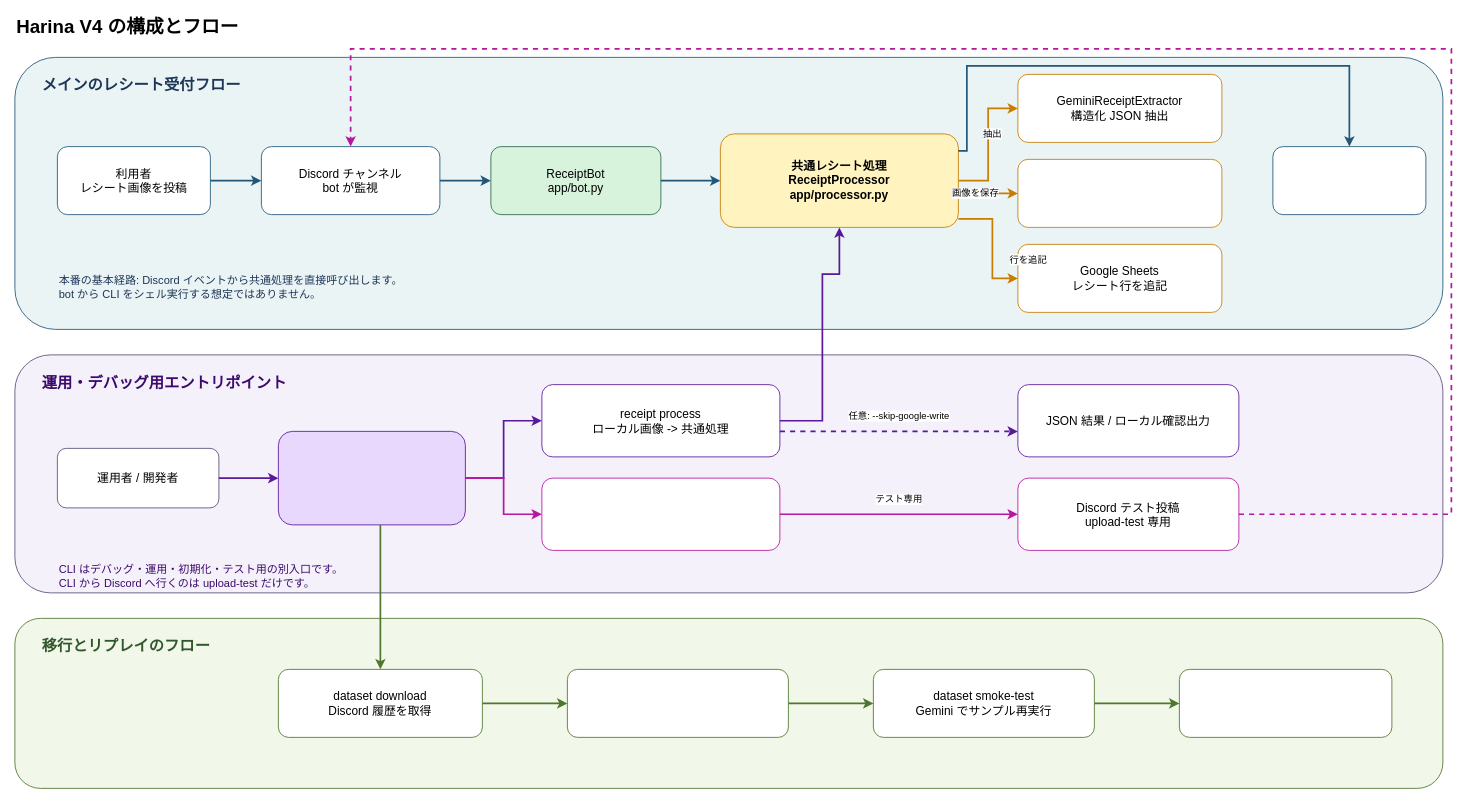
The diagram is 1474 pixels wide and 803 high, and some of its shapes have lost their labels. Here are the shapes that lost their labels. From the top down, the box of each, then its label:
(1017, 159, 1222, 227): Google Drive 元画像を保存
(1272, 146, 1426, 215): Discord 返信 要約を返す
(278, 431, 465, 525): harina-v4 CLI app/cli.py
(541, 477, 780, 550): bot upload-test 本番確認用の例外経路
(567, 669, 788, 737): ローカルデータセット images + metadata.jsonl
(1179, 669, 1392, 737): 将来の一括リプレイ / 移行作業
